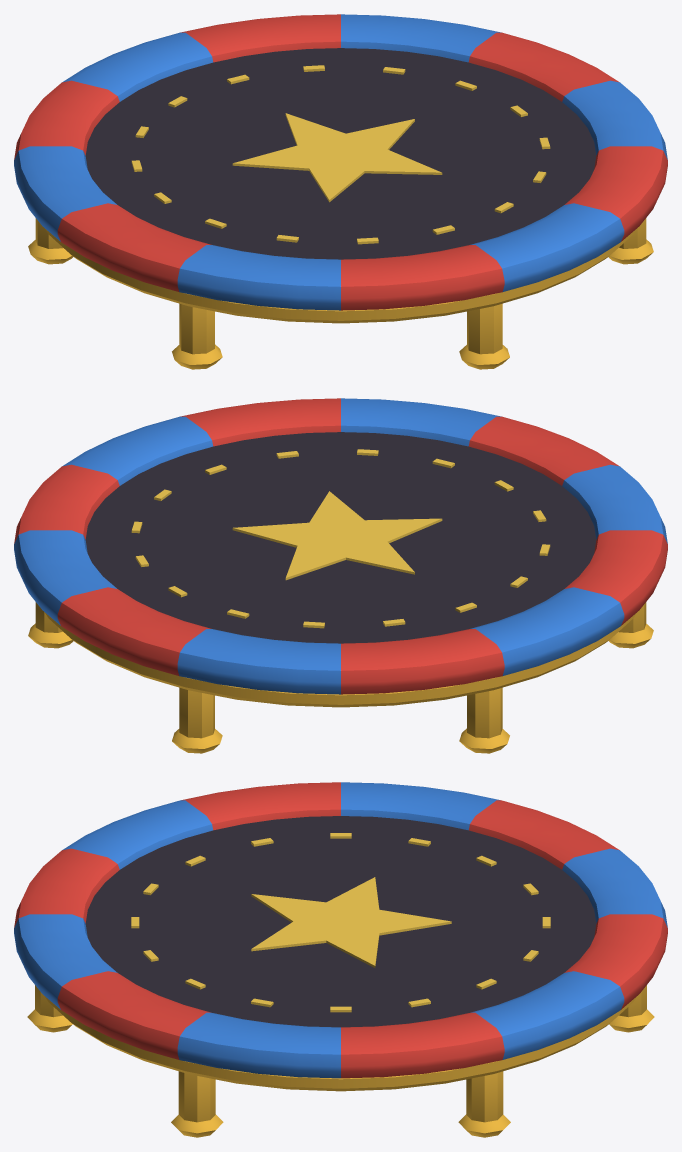
The model's file is toy_trampoline.glb.
The picture shows the model from 3 angles, top to bottom: view 1: azimuth 30°, elevation 25°; view 2: azimuth 150°, elevation 25°; view 3: azimuth 270°, elevation 25°; orthographic projection.
Parts seen in each view (by area): view 1: Mat, Frame; view 2: Mat, Frame; view 3: Mat, Frame.
Part boxes in pixels (left/top/right/bottom): Mat: left=85, top=48, right=596, bottom=259; Frame: left=14, top=14, right=667, bottom=369; Mat: left=85, top=432, right=596, bottom=643; Frame: left=14, top=398, right=667, bottom=753; Mat: left=85, top=816, right=596, bottom=1027; Frame: left=14, top=782, right=667, bottom=1137.
Bounding box in the file's own units: 2.48 × 0.475 × 2.48.
